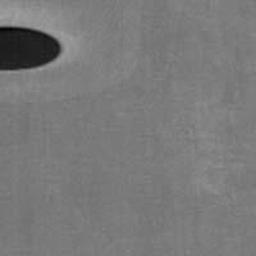Punching: (0, 26, 63, 72)
